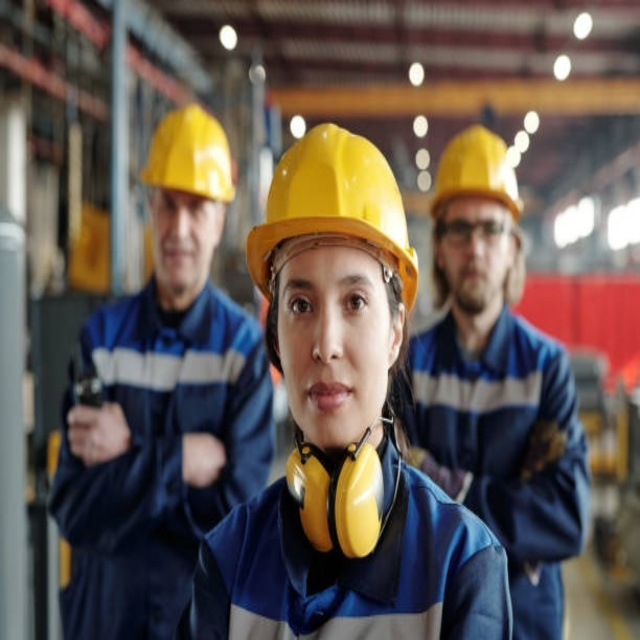Gafas: (434, 212, 517, 245)
Sin_gafas: (280, 270, 376, 333), (153, 187, 210, 229)
Sin_guantes: (68, 402, 128, 465)
Sin_mascara: (294, 355, 362, 433), (453, 251, 497, 303), (159, 232, 203, 278)
